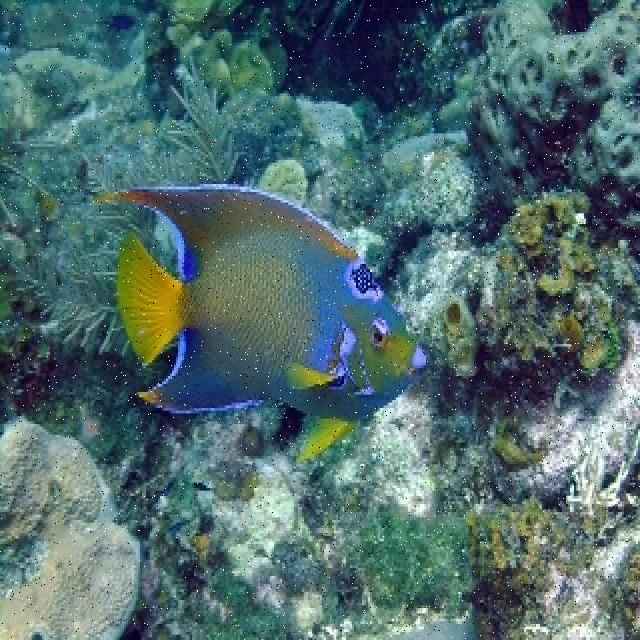aquatic plants: (6, 62, 238, 361)
fish: (97, 185, 426, 457)
reefs: (473, 0, 638, 248)
